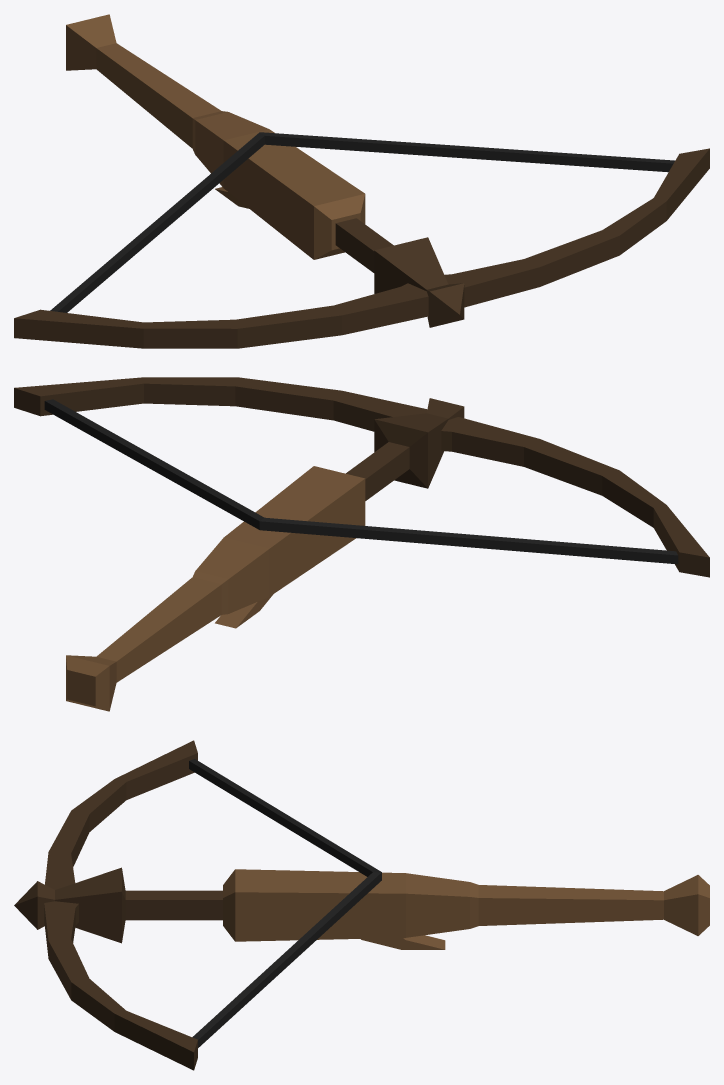
Rendered from Crossbow_4_Brown.fbx.
The picture shows the model from 3 angles, top to bottom: view 1: azimuth 30°, elevation 25°; view 2: azimuth 150°, elevation 25°; view 3: azimuth 270°, elevation 25°; orthographic projection. The views are drawn at different scales.
Parts seen in each view (by area): view 1: Crossbow_4_Brown_Mat_2, Crossbow_4_Brown_Mat_1, Crossbow_4_Brown_Mat_3; view 2: Crossbow_4_Brown_Mat_2, Crossbow_4_Brown_Mat_1, Crossbow_4_Brown_Mat_3; view 3: Crossbow_4_Brown_Mat_1, Crossbow_4_Brown_Mat_2, Crossbow_4_Brown_Mat_3.
Part boxes in pixels (bbox=[...]): Crossbow_4_Brown_Mat_2: bbox=[14, 148, 709, 348]; Crossbow_4_Brown_Mat_1: bbox=[66, 14, 365, 259]; Crossbow_4_Brown_Mat_3: bbox=[50, 132, 674, 312]; Crossbow_4_Brown_Mat_2: bbox=[14, 377, 709, 577]; Crossbow_4_Brown_Mat_1: bbox=[66, 466, 365, 711]; Crossbow_4_Brown_Mat_3: bbox=[44, 399, 678, 564]; Crossbow_4_Brown_Mat_1: bbox=[223, 869, 709, 949]; Crossbow_4_Brown_Mat_2: bbox=[14, 740, 222, 1070]; Crossbow_4_Brown_Mat_3: bbox=[189, 759, 381, 1047].
Bounding box in the file's own units: 106 × 11.57 × 100.
